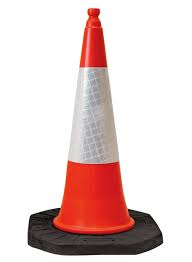cones: (28, 9, 164, 255)
